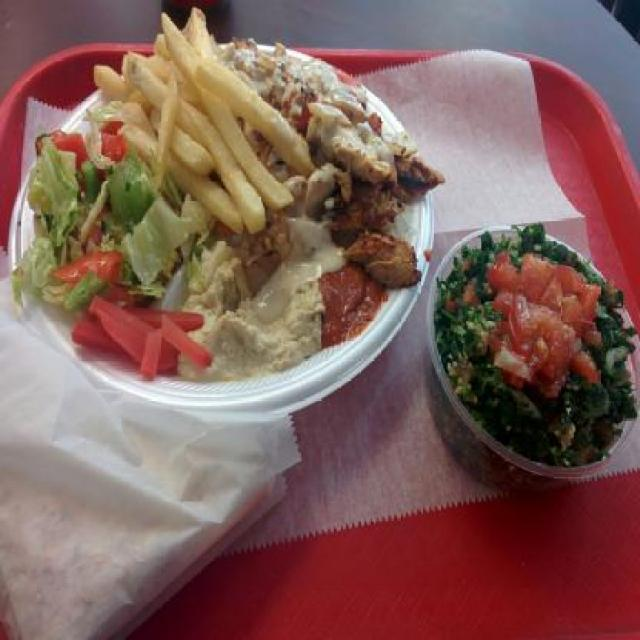Salad: (7, 102, 210, 378), (432, 222, 640, 464)
